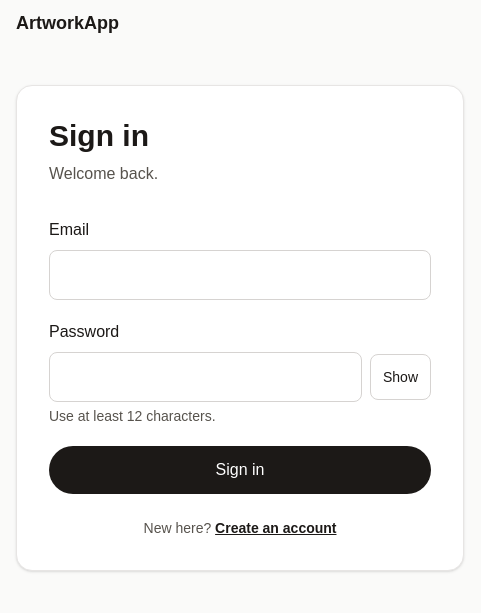
Test case: email authentication › enforces the 12-character password rule before login
Type "person@example.com" into the field labelled "Email" at (240, 275), box x1=49 y1=250 x2=431 y2=300
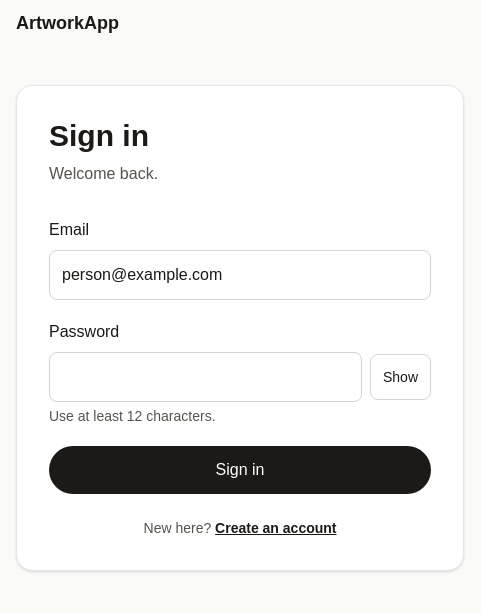
Type "short" into the password field labelled "Password" at (206, 377), box x1=49 y1=352 x2=362 y2=402
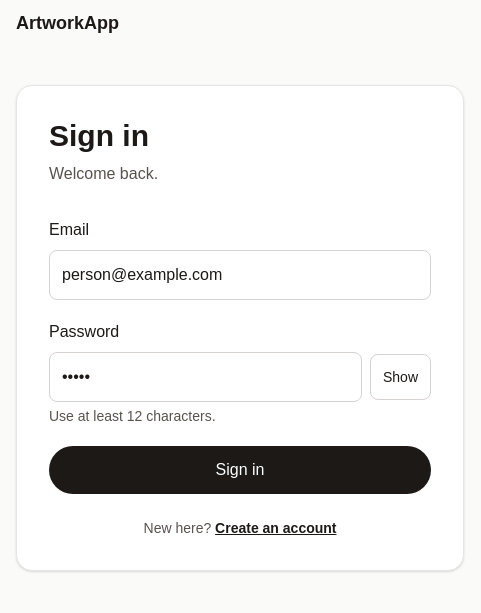
Click the button "Sign in" at (240, 470), box x1=49 y1=446 x2=431 y2=494
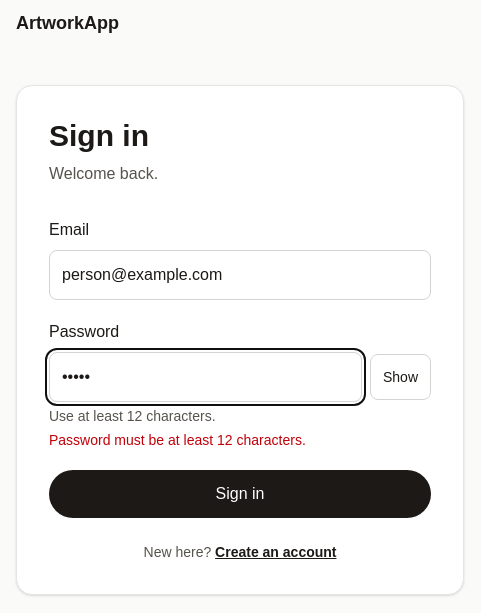
Now the text "Password must be at least 12 characters." is shown, box x1=49 y1=432 x2=306 y2=448
